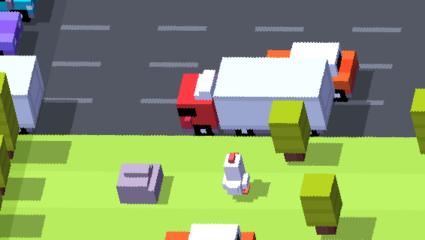hen: (224, 152, 252, 194)
obstacle: (177, 55, 331, 135), (267, 42, 358, 99), (0, 55, 46, 130), (302, 175, 343, 235), (269, 101, 309, 162), (118, 163, 166, 204), (166, 225, 260, 240), (0, 86, 19, 154), (0, 8, 23, 56), (410, 88, 425, 153), (0, 0, 38, 23), (0, 137, 11, 193)
